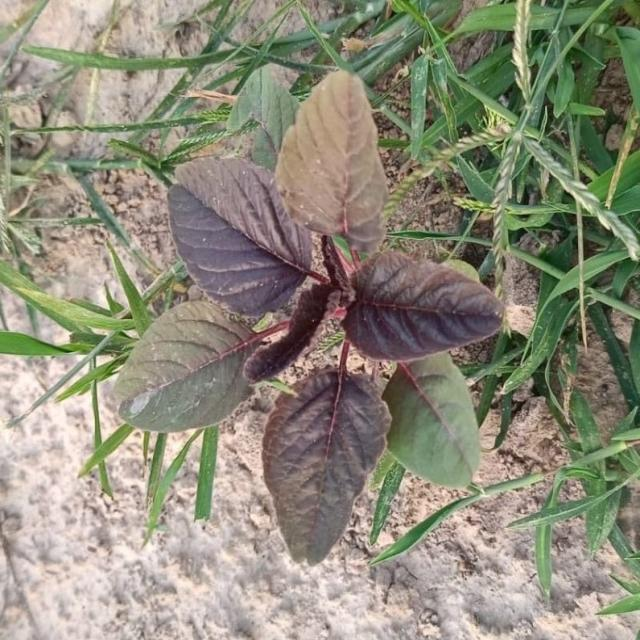plant: (115, 70, 502, 563)
